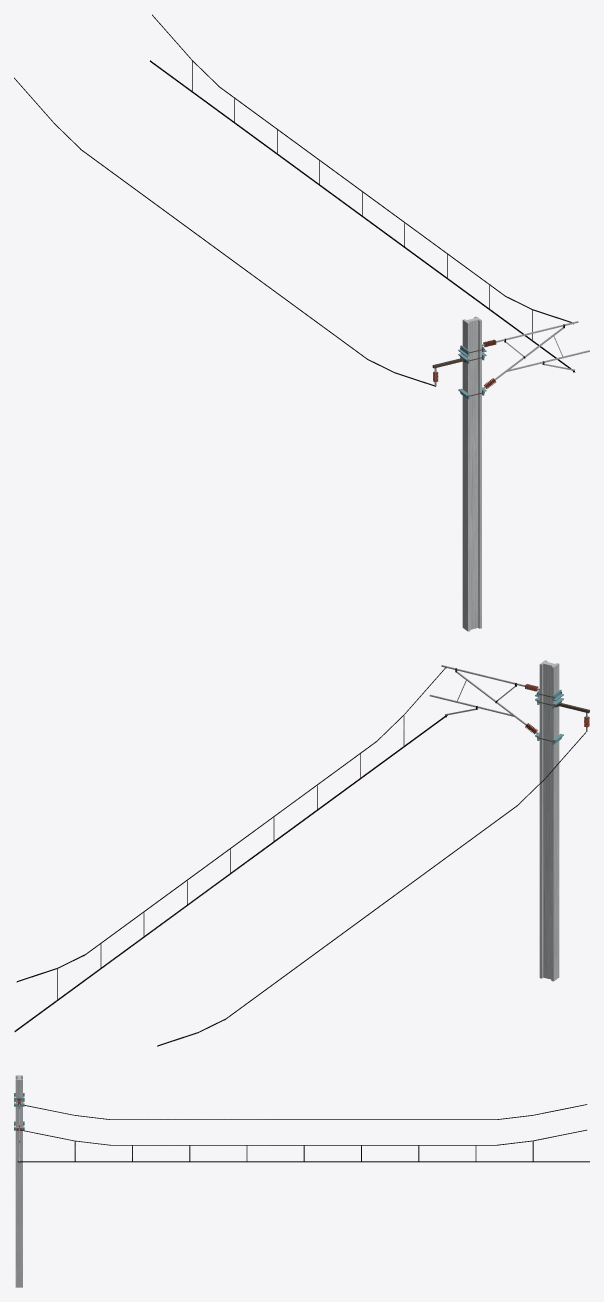
File: catenary_back.obj
The picture shows the model from 3 angles, top to bottom: view 1: azimuth 30°, elevation 25°; view 2: azimuth 150°, elevation 25°; view 3: azimuth 270°, elevation 25°; orthographic projection. The views are drawn at different scales.
Parts seen in each view (by area): view 1: cube; view 2: cube; view 3: cube.
Boxes of the visible parts, box(x1,y1,x2,y2) form: cube: box(14, 14, 589, 631); cube: box(14, 660, 589, 1046); cube: box(14, 1075, 589, 1287).
Size of the model in its own units: 4.25 by 8 by 20.12.
3 materials, 3 textured.
